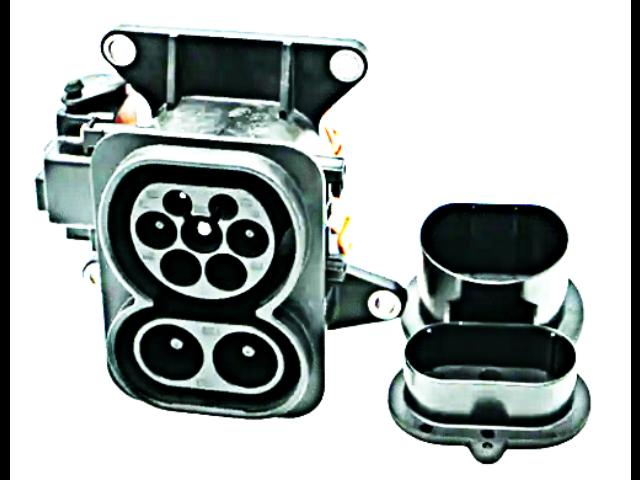inlet: (130, 183, 274, 299)
inlet-above-left: (163, 189, 192, 217)
inlet-above-right: (206, 193, 237, 221)
inlet-below-left: (159, 250, 201, 287)
inlet-below-right: (204, 253, 247, 291)
inlet-circle: (179, 215, 222, 254)
inlet-circle-left: (134, 209, 176, 250)
inlet-circle-right: (225, 219, 268, 259)
inlet-minus: (212, 332, 277, 388)
inlet-plus: (138, 324, 203, 382)
